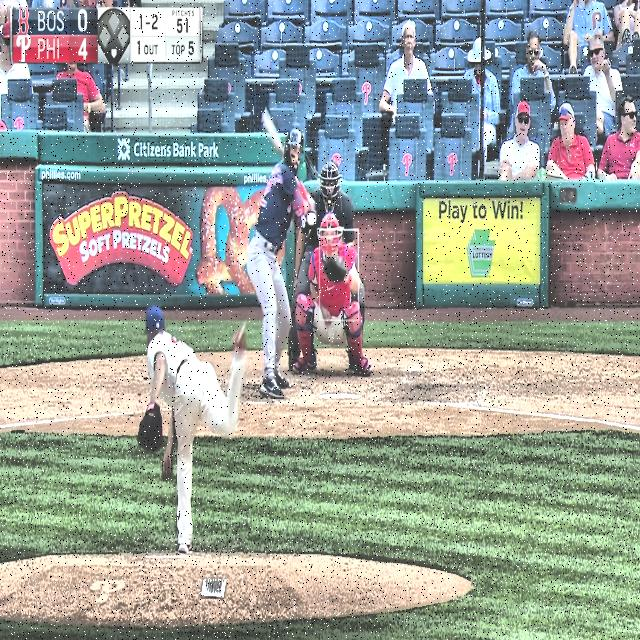baseball: (306, 212, 316, 226)
